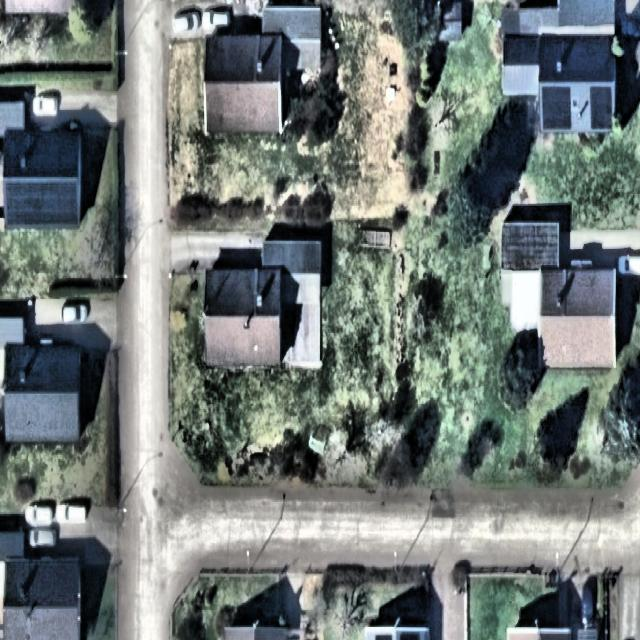roof_pv: (5, 176, 80, 230), (542, 85, 573, 128), (590, 89, 615, 132)
